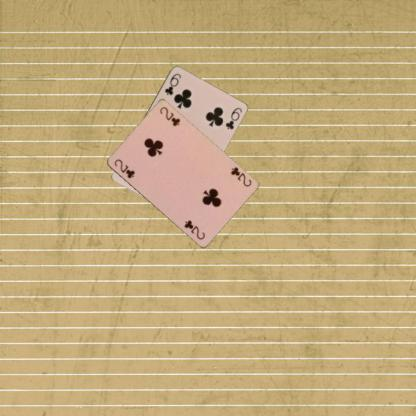2c: (111, 156, 136, 180), (228, 164, 252, 188)
6c: (162, 70, 182, 96)
